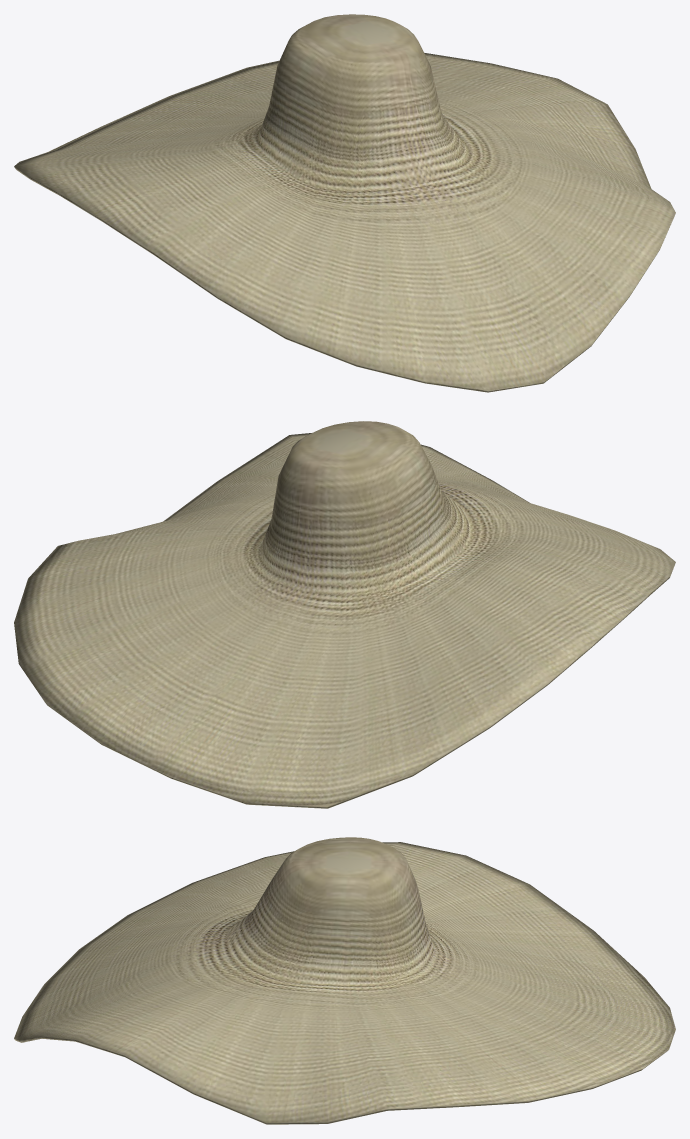
Rendered from strawhat.glb.
The picture shows the model from 3 angles, top to bottom: view 1: azimuth 30°, elevation 25°; view 2: azimuth 150°, elevation 25°; view 3: azimuth 270°, elevation 25°; orthographic projection. The views are drawn at different scales.
Visible parts, largest first — view 1: strawhat; view 2: strawhat; view 3: strawhat.
Boxes of the visible parts, x1,y1,x2,y2 form: strawhat: (14, 14, 675, 392); strawhat: (14, 421, 675, 808); strawhat: (14, 837, 675, 1124).
Bounding box in the file's own units: 58.52 × 21.76 × 70.3.
Materials: 1 (1 with a texture image).
